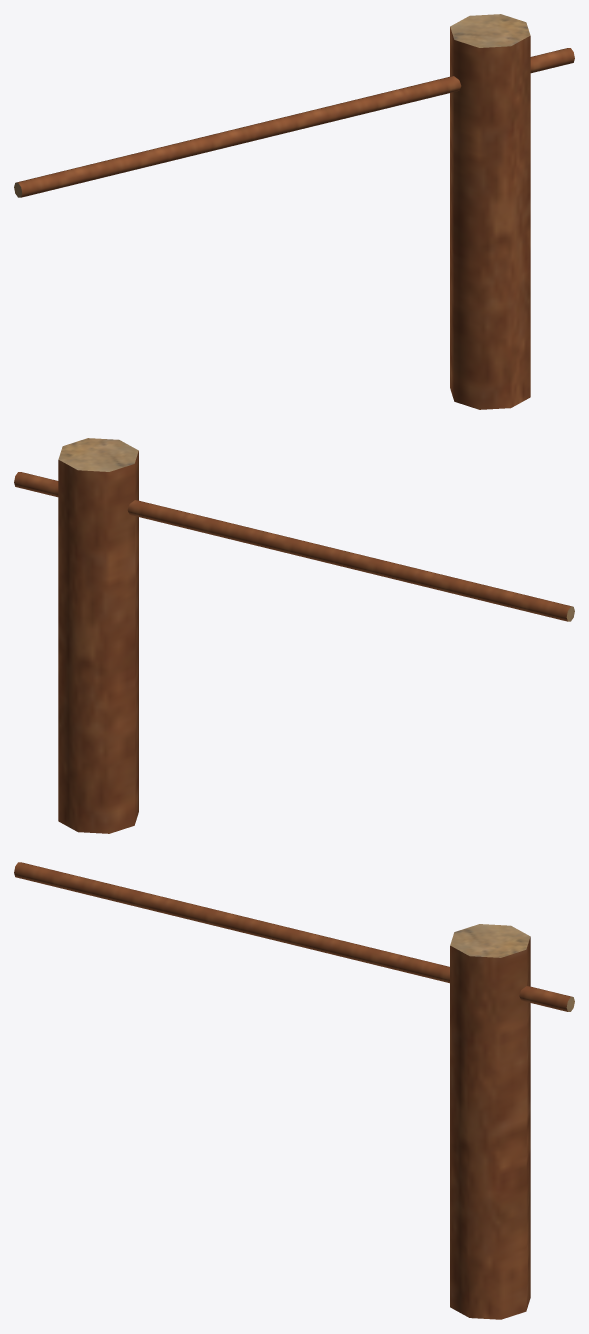
The model's file is kine.fbx.
3 renders of one model, top to bottom at view 1: azimuth 30°, elevation 25°; view 2: azimuth 150°, elevation 25°; view 3: azimuth 330°, elevation 25°, orthographic.
Parts seen in each view (by area): view 1: kine; view 2: kine; view 3: kine.
Part boxes in pixels (x1,y1,x2,y2): kine: (14, 14, 574, 409); kine: (14, 438, 574, 833); kine: (14, 862, 574, 1319).
Bounding box in the file's own units: 153 × 96 × 20.
